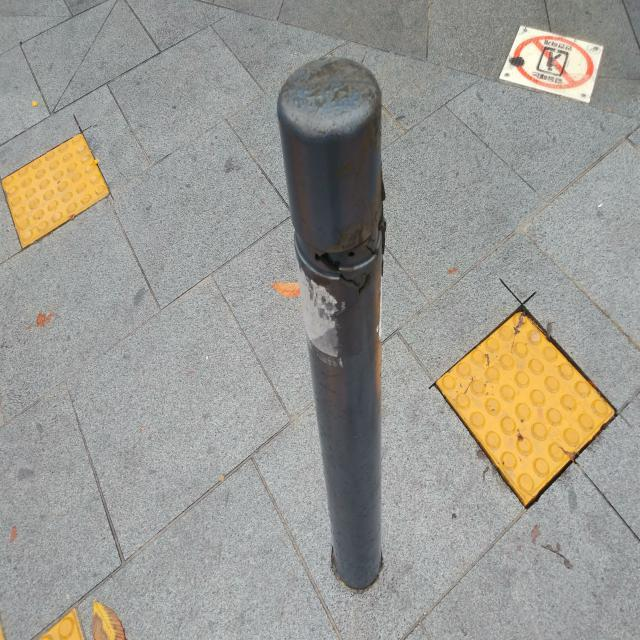pole: (276, 53, 399, 592)
